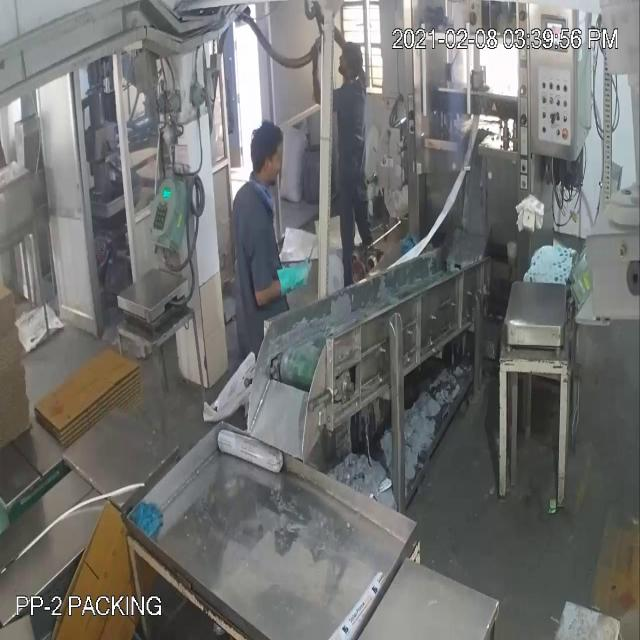gloves: (268, 253, 318, 315)
